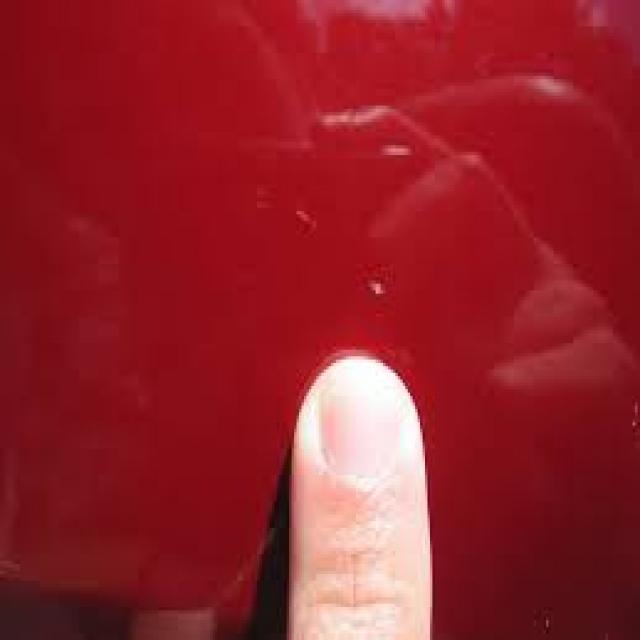dent-or-scratch: (258, 146, 412, 300)
